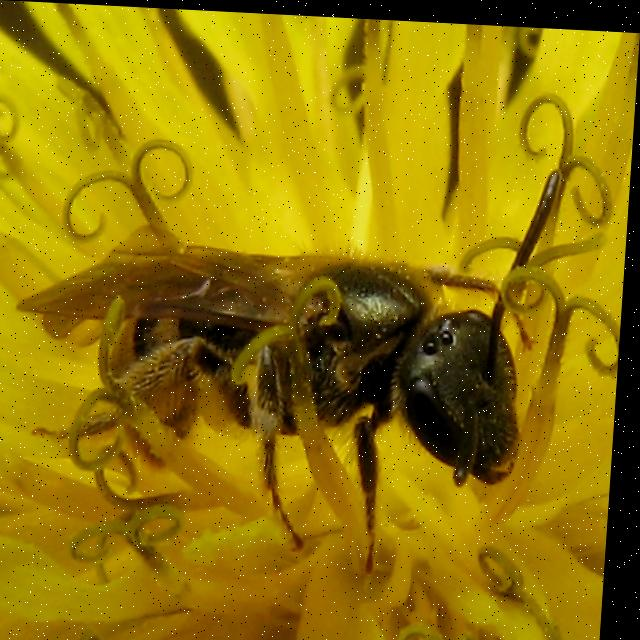Lasioglossum: (20, 130, 571, 577)
